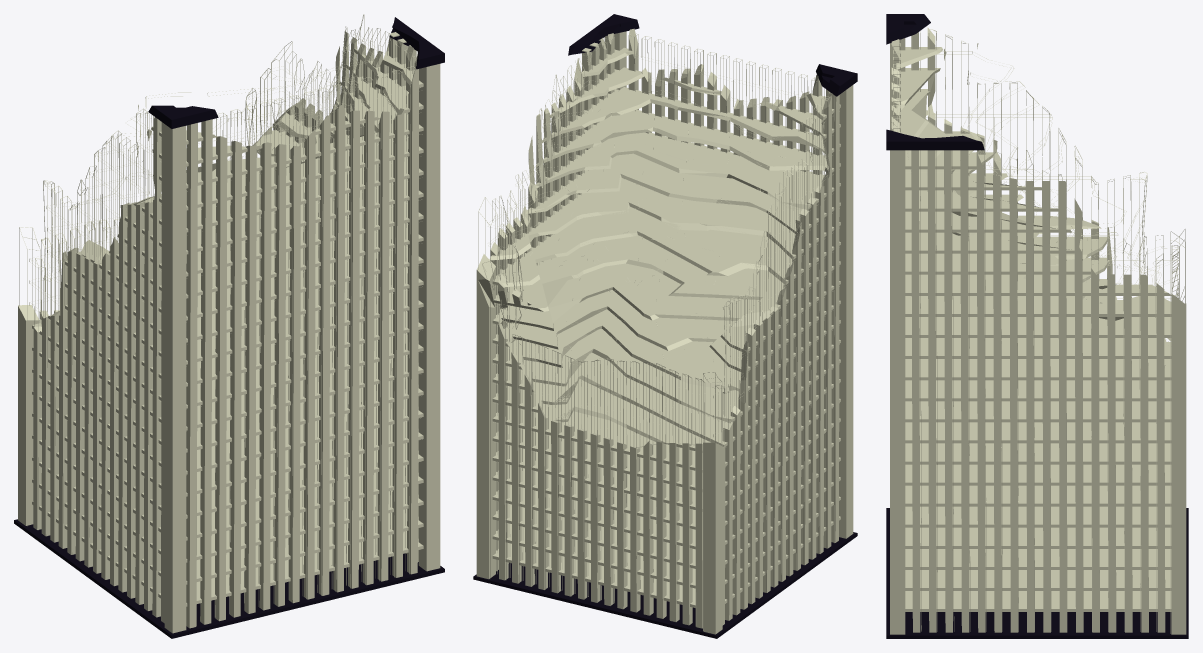
The model's file is Tower3-Destroyed.glb.
The picture shows the model from 3 angles, left to right: view 1: azimuth 30°, elevation 25°; view 2: azimuth 150°, elevation 25°; view 3: azimuth 270°, elevation 25°; orthographic projection. The views are drawn at different scales.
Visible parts, largest first — view 1: wall1, wall3, floors, wall1.001, cornerstone1, cornerstone3, wall3.001, base, wall4, cornerstone4, wall4.001, floors.001 (+2 smaller); view 2: floors, wall3, wall2, wall2.001, wall3.001, wall4, cornerstone1, cornerstone2, wall1, base, cornerstone4, wall1.001 (+4 smaller); view 3: floors, wall4, cornerstone3, wall4.001, base, cornerstone2, wall3.001, floors.001, roof, wall3, wall1, cornerstone2.001.
Part boxes in pixels (<box>): wall1: <box>186,64,418,628</box>; wall3: <box>33,117,164,623</box>; floors: <box>32,48,423,606</box>; wall1.001: <box>186,66,414,625</box>; cornerstone1: <box>164,124,186,633</box>; cornerstone3: <box>418,64,440,571</box>; wall3.001: <box>34,104,153,566</box>; base: <box>14,519,444,638</box>; wall4: <box>286,31,418,561</box>; cornerstone4: <box>18,305,39,525</box>; wall4.001: <box>285,14,416,378</box>; floors.001: <box>29,34,422,504</box>; floors: <box>489,47,840,607</box>; wall3: <box>722,92,839,625</box>; wall2: <box>498,274,702,628</box>; wall2.001: <box>499,223,705,626</box>; wall3.001: <box>715,92,834,592</box>; wall4: <box>490,33,614,571</box>; cornerstone1: <box>839,85,853,538</box>; cornerstone2: <box>476,254,495,579</box>; wall1: <box>628,28,829,174</box>; base: <box>473,532,857,638</box>; cornerstone4: <box>703,442,722,634</box>; wall1.001: <box>628,33,824,175</box>; floors: <box>896,47,1171,611</box>; wall4: <box>911,150,1165,632</box>; cornerstone3: <box>890,150,905,634</box>; wall4.001: <box>920,150,1163,631</box>; base: <box>886,508,1188,638</box>; cornerstone2: <box>1171,293,1186,634</box>; wall3.001: <box>912,29,1163,299</box>; floors.001: <box>897,51,1177,507</box>; roof: <box>886,14,984,150</box>; wall3: <box>911,27,1131,297</box>; wall1: <box>891,39,899,132</box>; cornerstone2.001: <box>1170,231,1185,633</box>.
Bounding box in the file's own units: 20 × 36.29 × 20.
